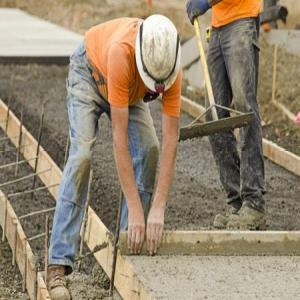white: (134, 13, 185, 101)
